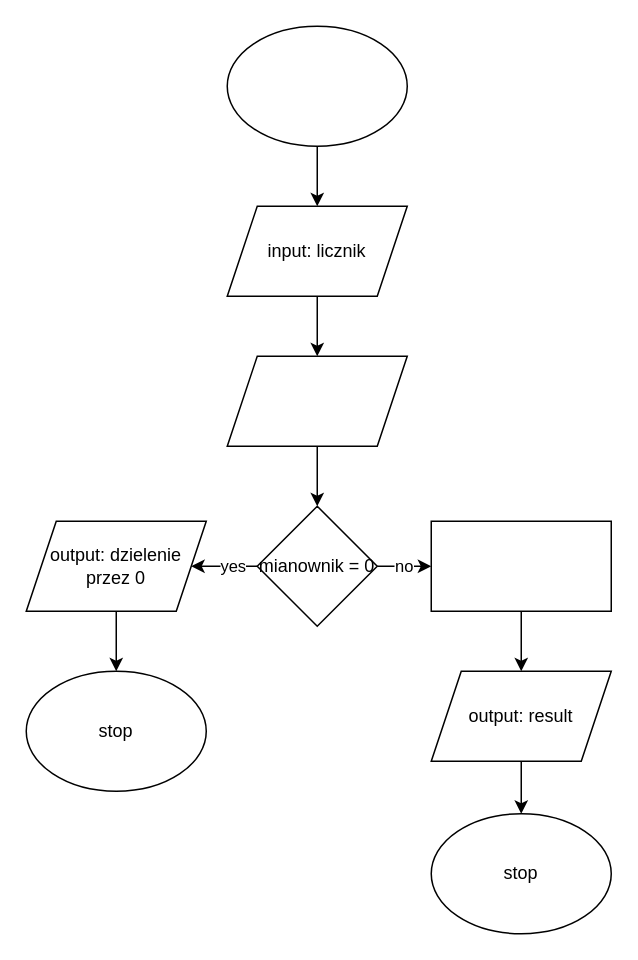
Image size: 638x960. Some labels were removed from this diagram. The centre of each missing label's shape, as x and y in pixels:
input: mianownik: the point at 316,400
result = licznik / mianownik: the point at 520,565
start: the point at 316,85
